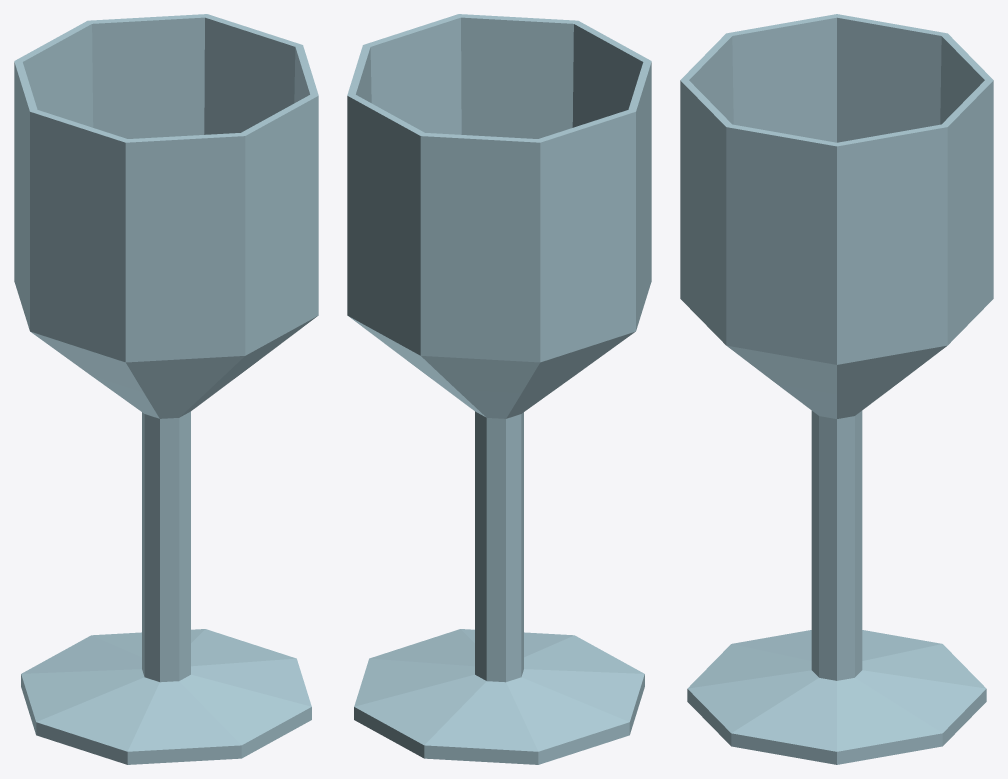
The model's file is wineglass_1.fbx.
3 renders of one model, left to right at view 1: azimuth 30°, elevation 25°; view 2: azimuth 150°, elevation 25°; view 3: azimuth 270°, elevation 25°, orthographic.
Parts seen in each view (by area): view 1: wineglass_1; view 2: wineglass_1; view 3: wineglass_1.
Part boxes in pixels (left/top/right/bottom): wineglass_1: left=14, top=14, right=318, bottom=764; wineglass_1: left=347, top=14, right=651, bottom=764; wineglass_1: left=680, top=14, right=993, bottom=764.
Bounding box in the file's own units: 12.19 × 12.19 × 26.66.
